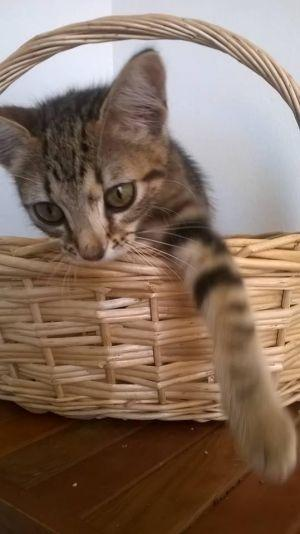bengal: (1, 30, 187, 281)
